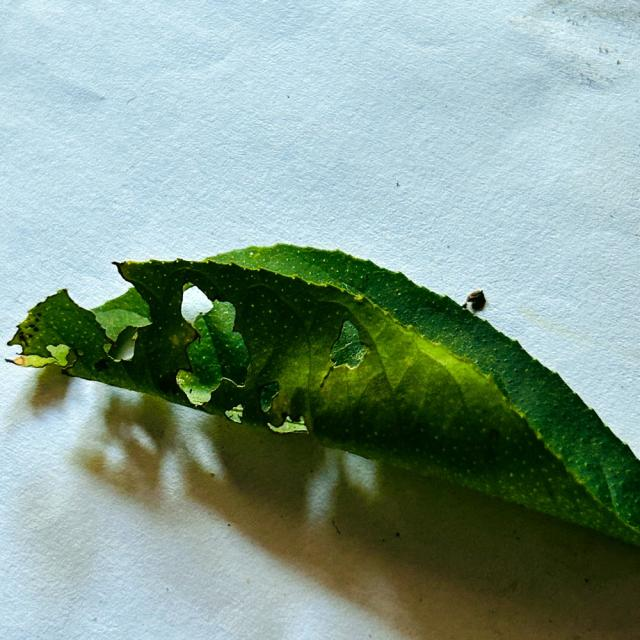Deficiency Leaf: (174, 285, 269, 411), (181, 284, 234, 331), (329, 319, 366, 371), (178, 374, 216, 407), (265, 403, 307, 432), (180, 285, 214, 320), (107, 328, 139, 362), (9, 352, 64, 368), (44, 343, 75, 366), (3, 349, 25, 363)
Lemon: (7, 244, 639, 545)
